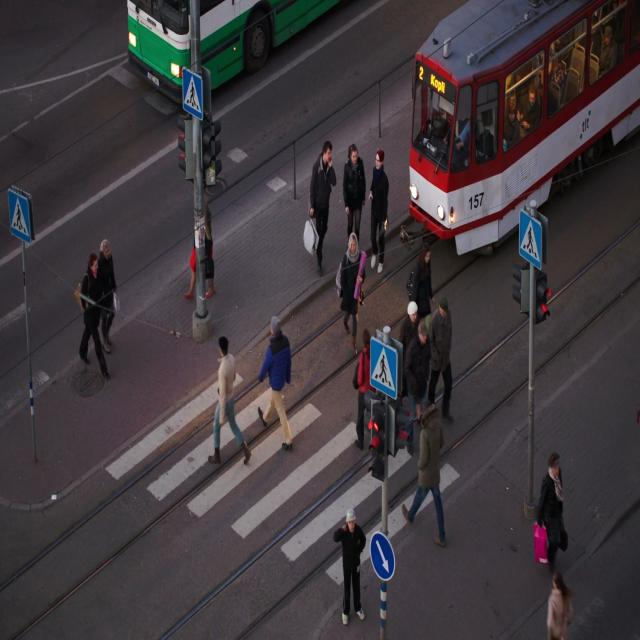pedestrian: (402, 387, 445, 546), (208, 337, 250, 463), (258, 316, 292, 450), (403, 299, 450, 382), (307, 141, 336, 273), (534, 453, 567, 569), (334, 508, 365, 625), (338, 232, 365, 353), (354, 330, 372, 449), (442, 364, 452, 420), (374, 150, 385, 180), (437, 336, 450, 356), (406, 418, 413, 452)
